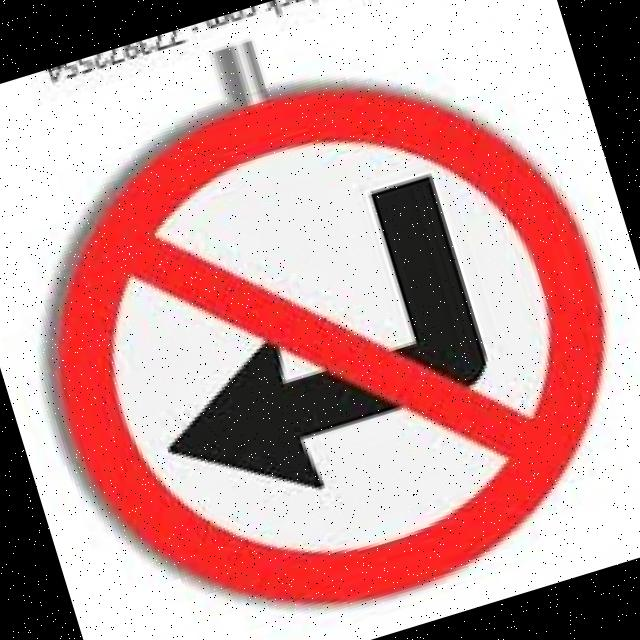do_not_turn_right: (0, 16, 640, 640)
